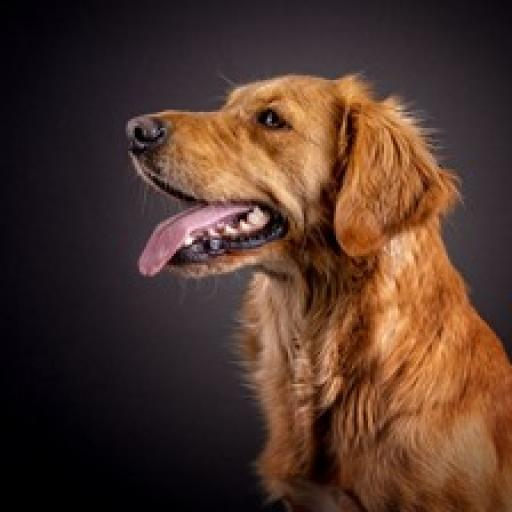dog: (101, 55, 512, 512)
